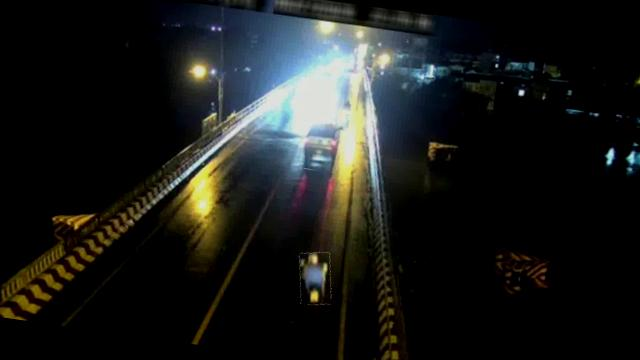Bike: (294, 250, 335, 307)
Car: (298, 118, 344, 174)
